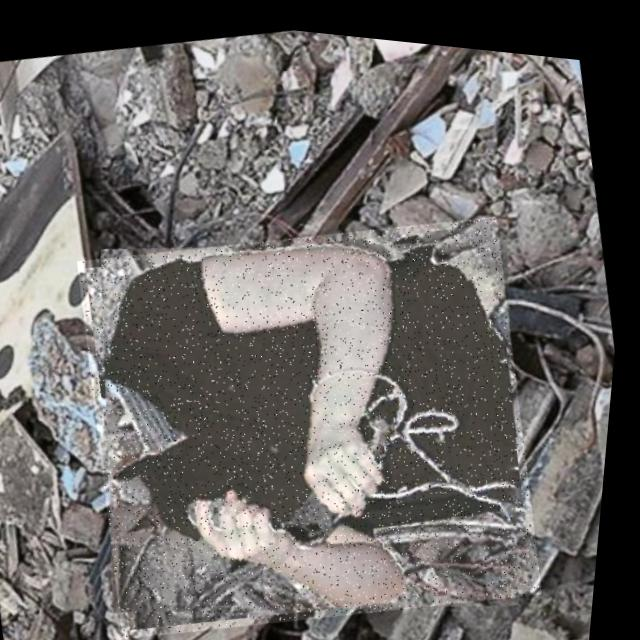Person in Rubble: (55, 170, 577, 640)
